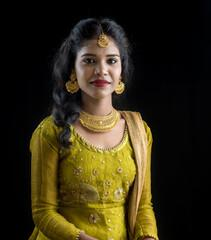Human: (33, 8, 168, 239)
